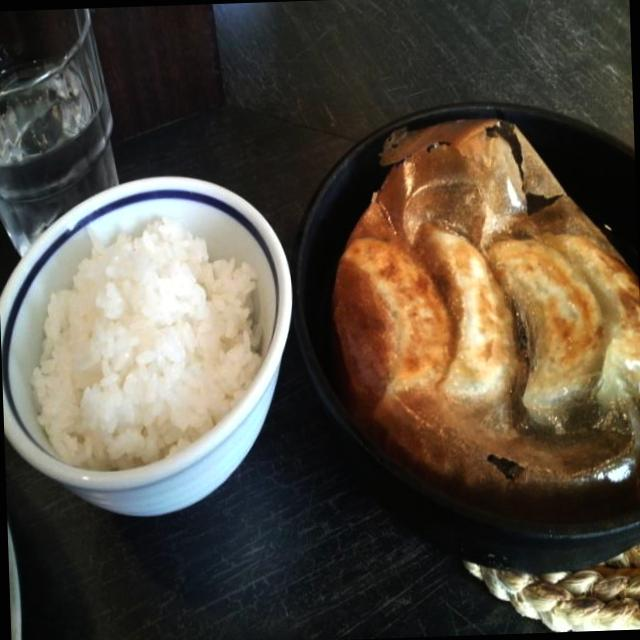Rice: (0, 153, 303, 529)
